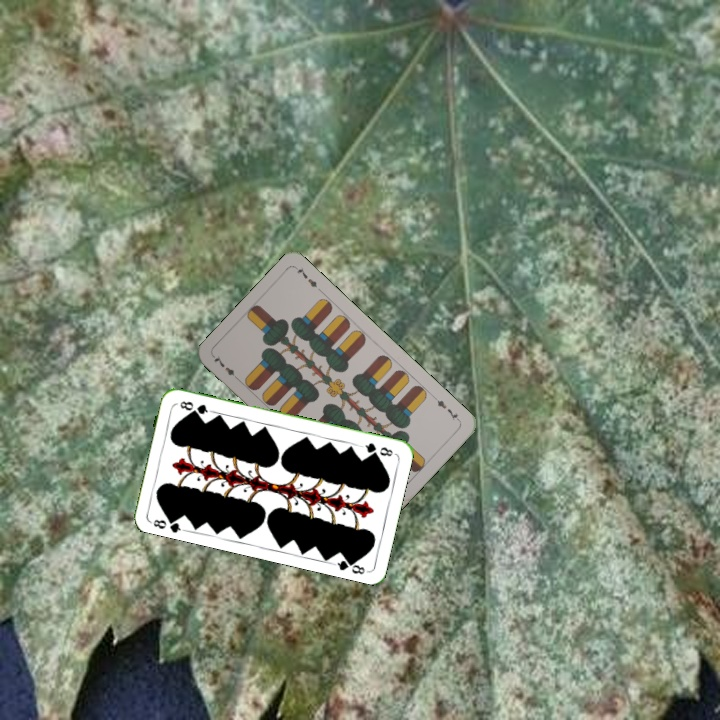E7: (209, 351, 242, 384), (429, 393, 463, 424)
G8: (146, 512, 186, 535), (357, 439, 395, 459)
